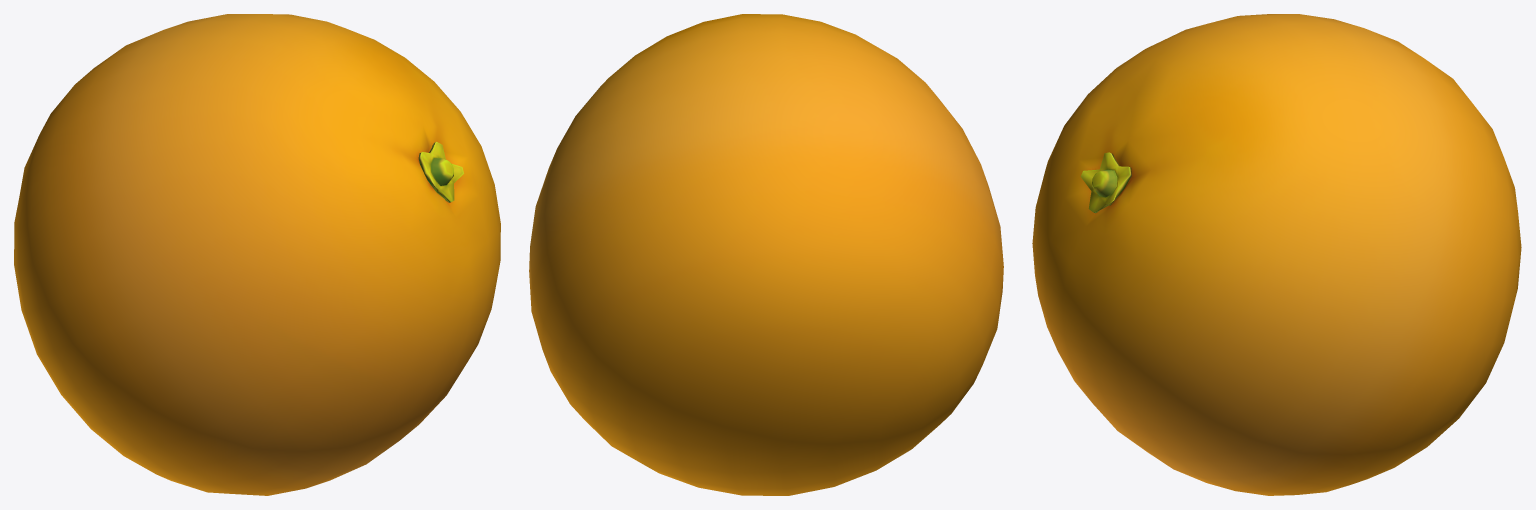
The model's file is orange_final.glb.
3 views of the same model, side by side, from view 1: azimuth 30°, elevation 25°; view 2: azimuth 150°, elevation 25°; view 3: azimuth 270°, elevation 25° (orthographic).
Visible parts, largest first — view 1: orange; view 2: orange; view 3: orange.
Part boxes in pixels (x1,y1,x2,y2): orange: [14, 14, 500, 495]; orange: [529, 14, 1003, 495]; orange: [1032, 14, 1521, 495].
Size of the model in its own units: 0.9639 by 0.9662 by 0.965.
Materials: 1 (1 with a texture image).
